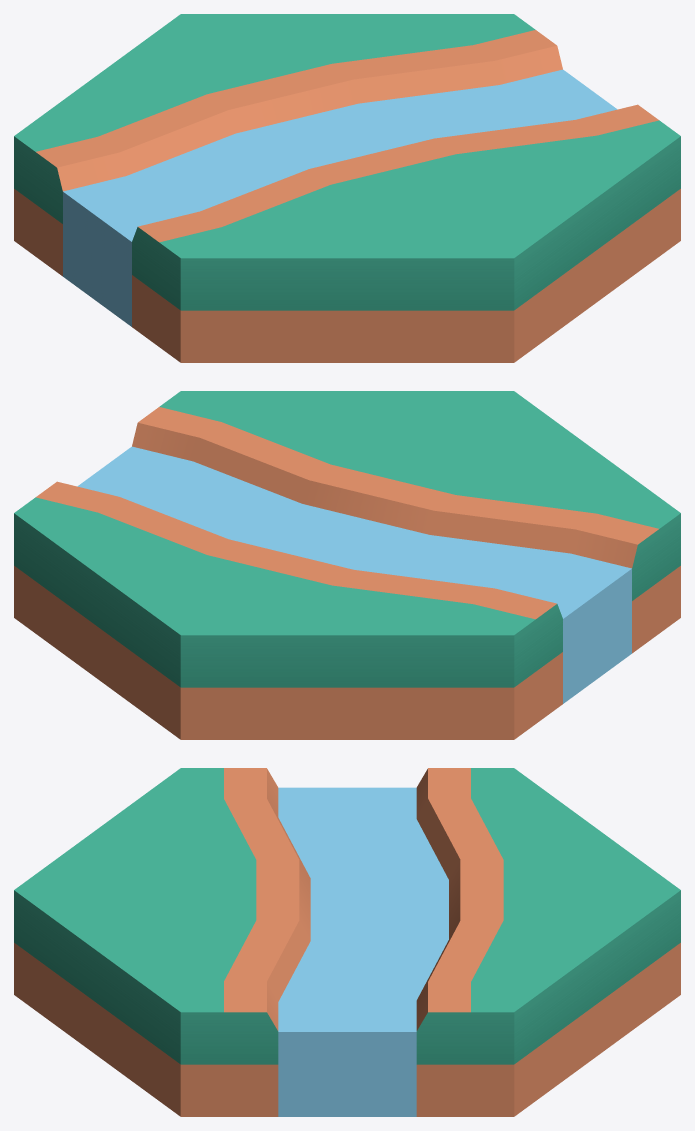
File: river-straight.gltf
3 renders of one model, top to bottom at view 1: azimuth 30°, elevation 25°; view 2: azimuth 150°, elevation 25°; view 3: azimuth 270°, elevation 25°, orthographic.
Parts seen in each view (by area): view 1: river_straight; view 2: river_straight; view 3: river_straight.
Part boxes in pixels (x1=…): river_straight: x1=14, y1=14, x2=680, y2=362; river_straight: x1=14, y1=391, x2=680, y2=739; river_straight: x1=14, y1=768, x2=680, y2=1116.
Bounding box in the file's own units: 1 × 0.2 × 1.15.
1 material, 1 textured.
